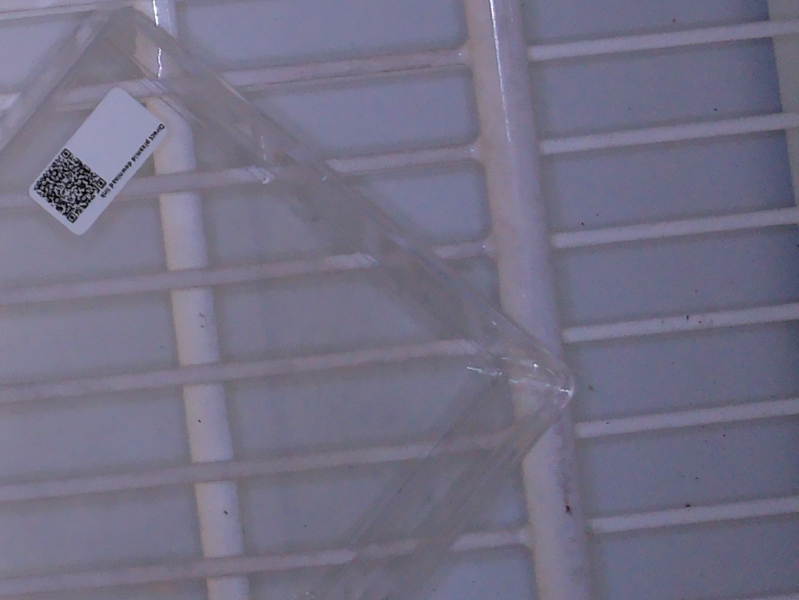plate: (1, 3, 579, 600)
